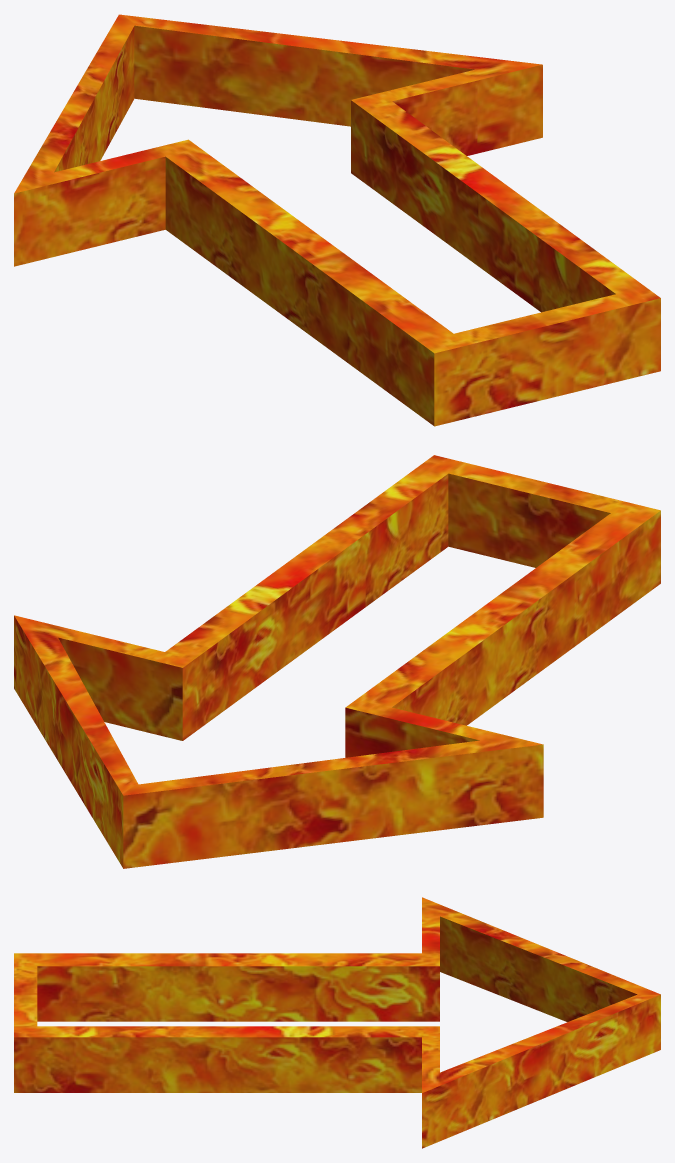
File: ObjectArrow.FBX
3 views of the same model, one above another, from view 1: azimuth 30°, elevation 25°; view 2: azimuth 150°, elevation 25°; view 3: azimuth 270°, elevation 25° (orthographic). The views are drawn at different scales.
Parts seen in each view (by area): view 1: Arrow; view 2: Arrow; view 3: Arrow.
Boxes of the visible parts, x1=… form: Arrow: x1=14, y1=14, x2=660, y2=426; Arrow: x1=14, y1=455, x2=660, y2=868; Arrow: x1=14, y1=897, x2=660, y2=1148.
Bounding box in the file's own units: 75.73 × 10 × 106.
1 material, 1 textured.
